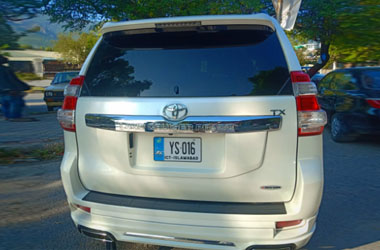plate: (151, 135, 203, 162)
